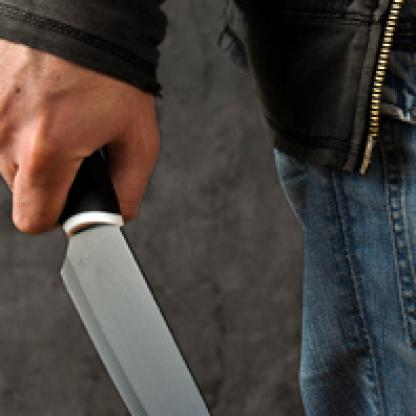knife: (0, 104, 286, 414)
